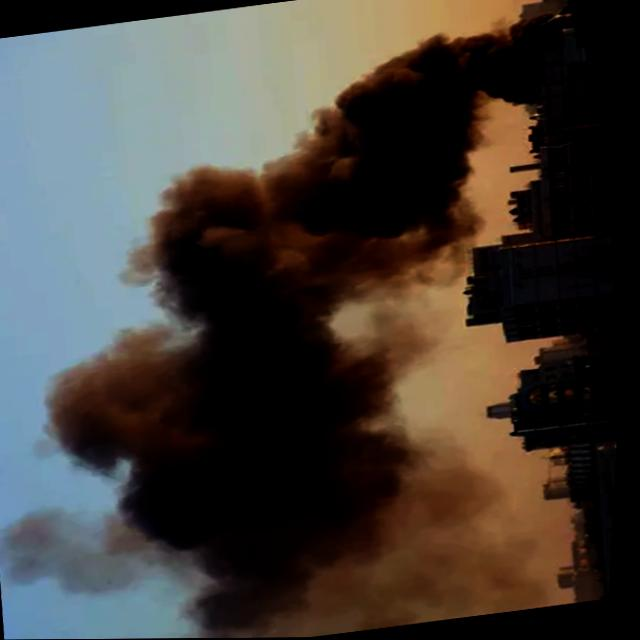Smoke: (5, 22, 582, 566)
